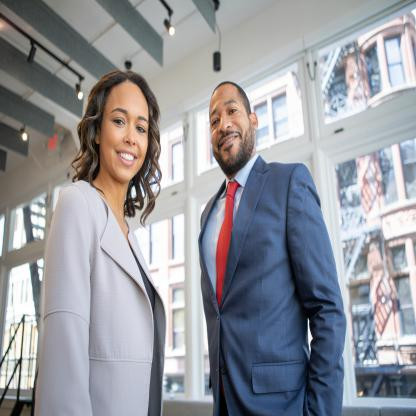Eye: (112, 114, 126, 128), (133, 124, 148, 134), (210, 116, 220, 128), (228, 106, 238, 116)
Mouth: (113, 148, 140, 168), (218, 134, 238, 152)
Nose: (124, 124, 137, 148), (218, 113, 231, 135)
